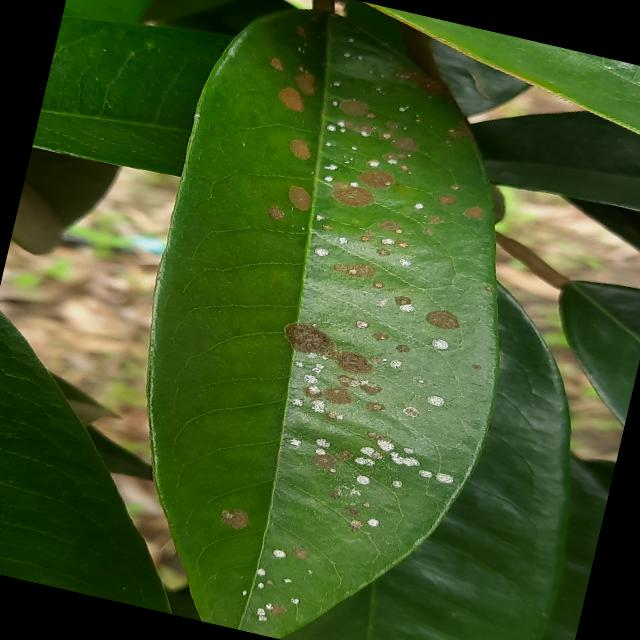Algal Leaf Spot: (71, 0, 586, 639)
